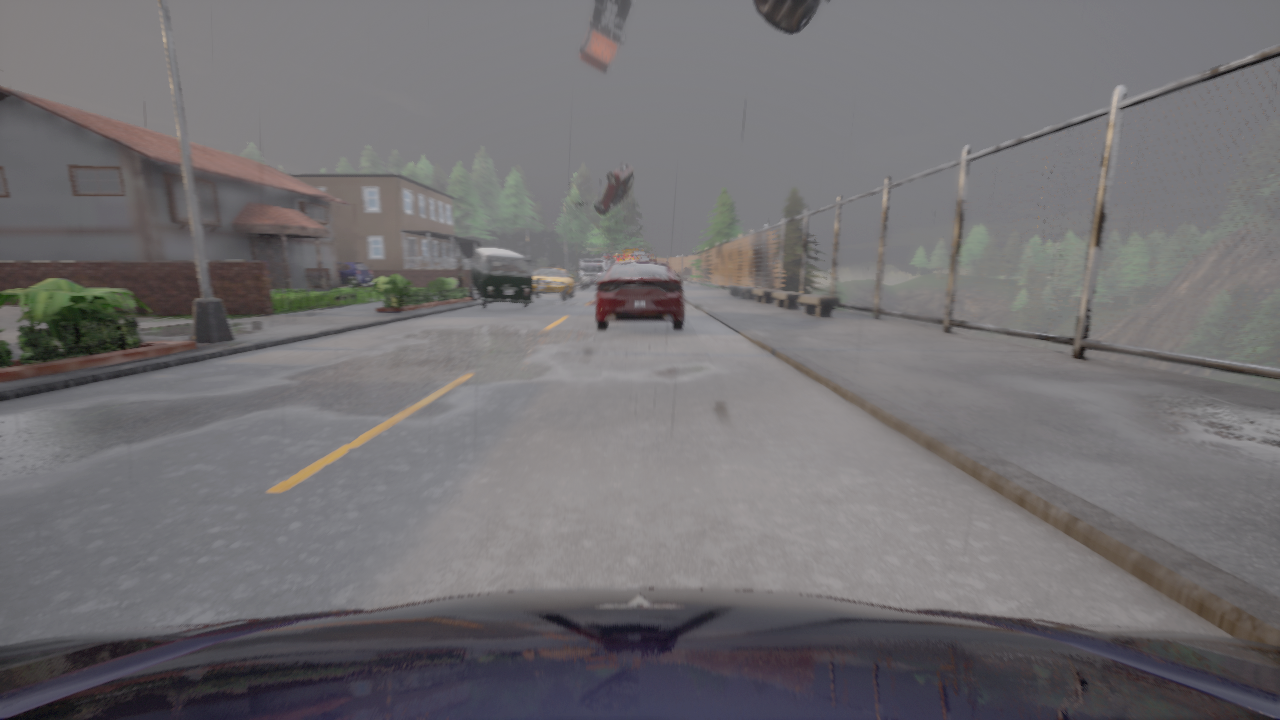cyclist: (0, 588, 1279, 719), (595, 259, 683, 328), (576, 0, 634, 73), (469, 247, 533, 308), (753, 0, 829, 33), (595, 162, 634, 214), (534, 264, 573, 301), (337, 262, 374, 288), (576, 259, 609, 288), (601, 249, 655, 265)
pedestrian: (456, 257, 464, 288)
